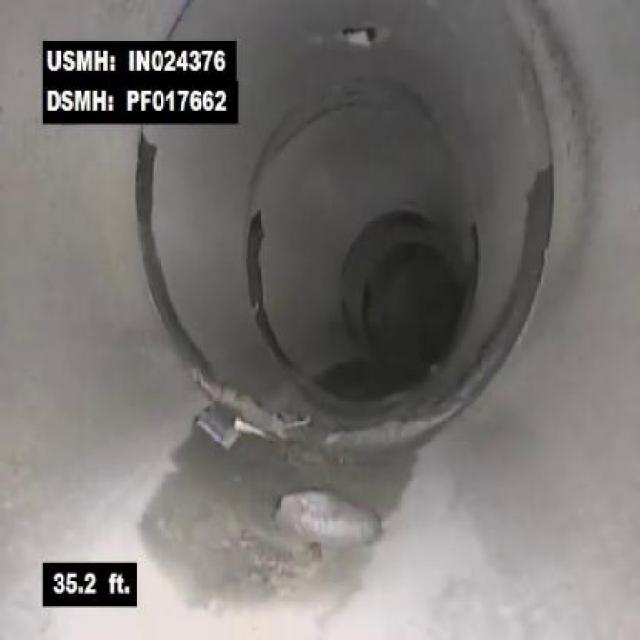Debris: (237, 460, 420, 575)
